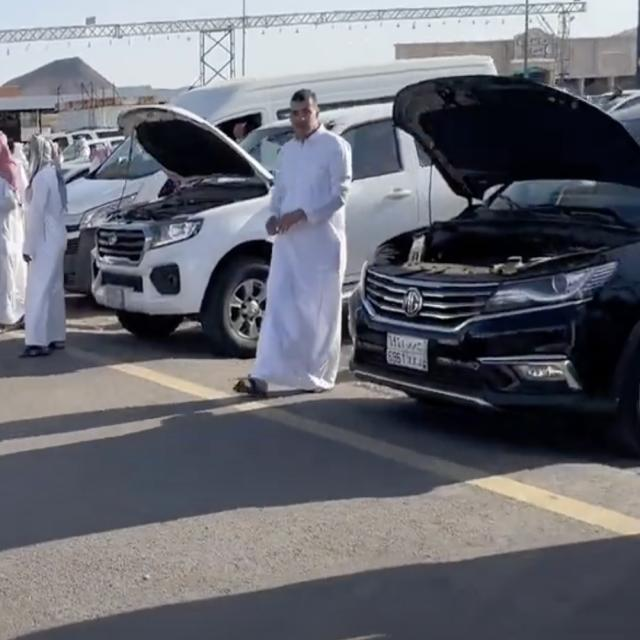license_plate: (385, 330, 431, 374), (104, 286, 126, 309)
